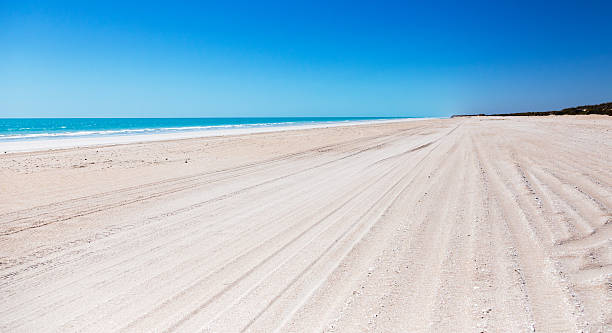vehicle_track: (0, 117, 611, 331), (0, 131, 403, 235), (169, 170, 391, 329), (483, 158, 579, 330), (147, 147, 370, 219), (394, 161, 399, 162)
